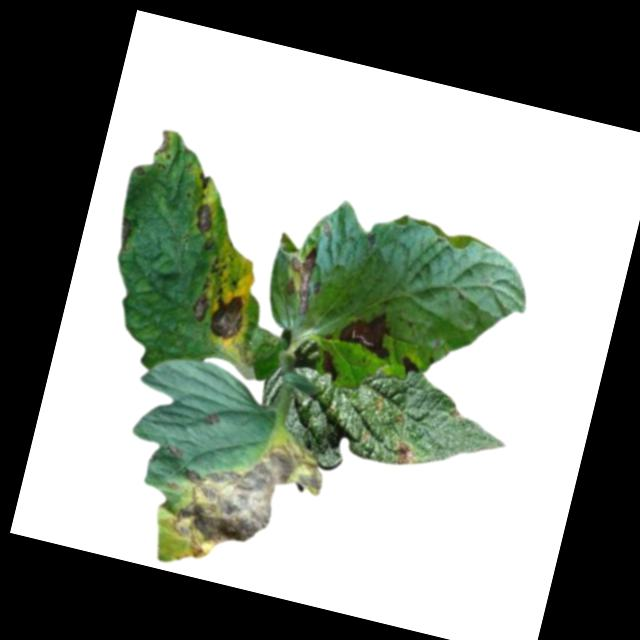Early_blight: (163, 423, 329, 591), (277, 241, 328, 320), (333, 301, 398, 362), (205, 285, 250, 346), (188, 202, 217, 236), (314, 348, 342, 381), (149, 128, 174, 162), (391, 438, 417, 468), (189, 290, 212, 323), (395, 354, 423, 381), (113, 224, 135, 255), (203, 408, 222, 429), (163, 442, 184, 461)
